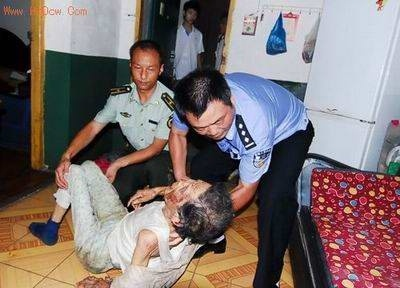falling: (21, 148, 244, 288)
